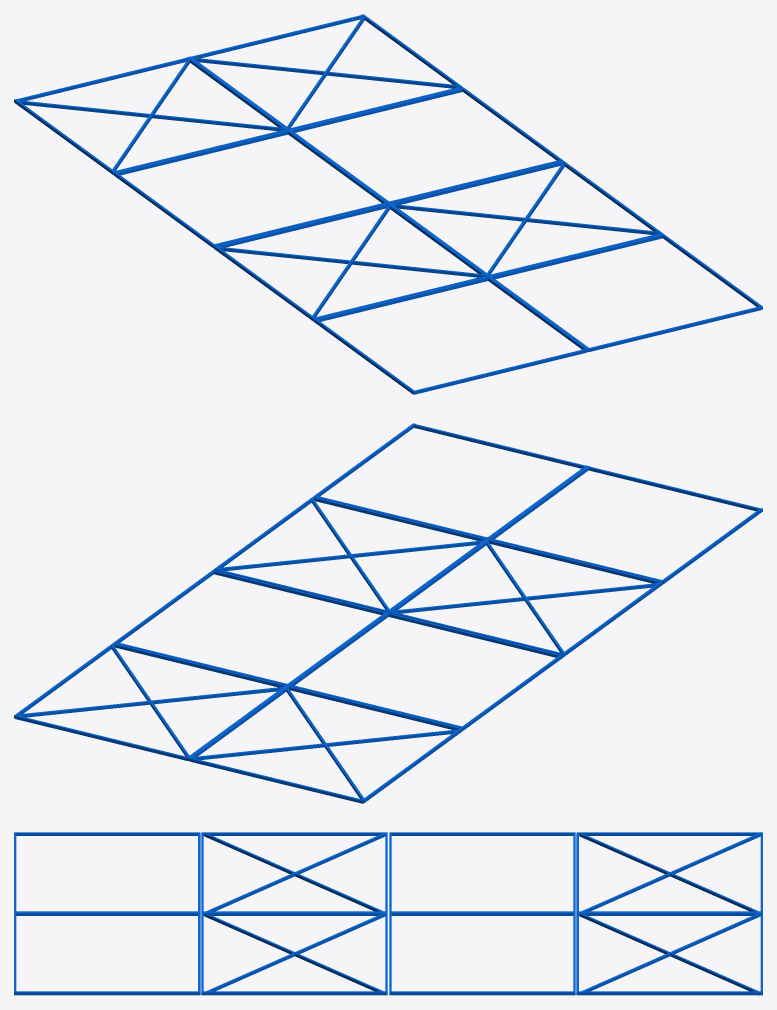
The model's file is S_01_Roof_Metal_01.fbx.
3 renders of one model, top to bottom at view 1: azimuth 30°, elevation 25°; view 2: azimuth 150°, elevation 25°; view 3: azimuth 270°, elevation 25°, orthographic. The views are drawn at different scales.
Visible parts, largest first — view 1: S_01_Roof_Metal_01; view 2: S_01_Roof_Metal_01; view 3: S_01_Roof_Metal_01.
Boxes of the visible parts, x1,y1,x2,y2 form: S_01_Roof_Metal_01: (14,14,762,394); S_01_Roof_Metal_01: (14,423,762,803); S_01_Roof_Metal_01: (14,832,762,995).
Bounding box in the file's own units: 1811 × 17.08 × 3582.
